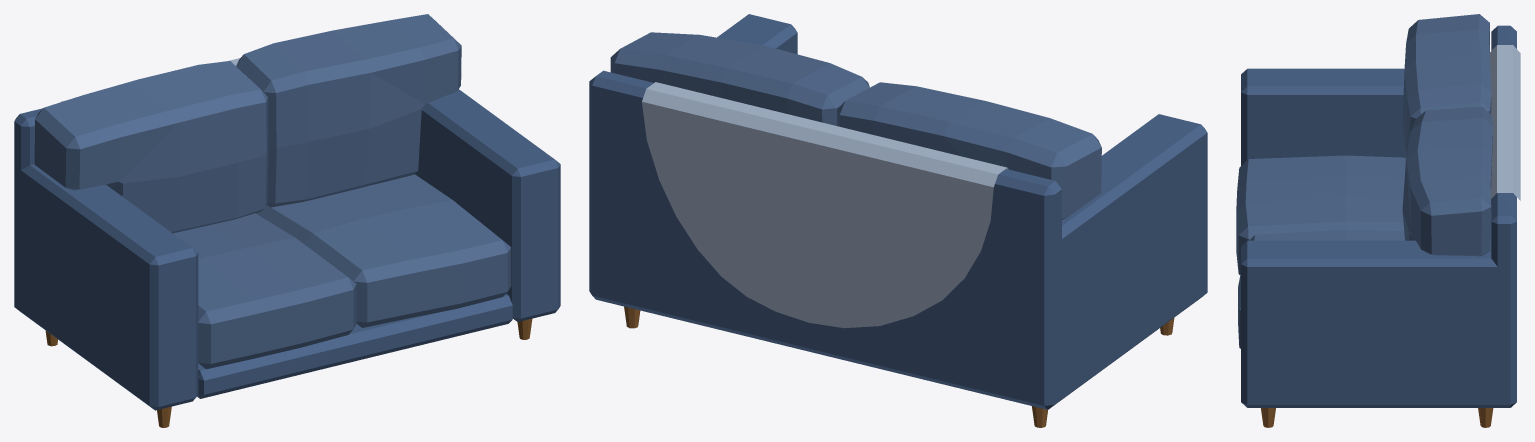
Rendered from couch_mdl.fbx.
3 views of the same model, side by side, from view 1: azimuth 30°, elevation 25°; view 2: azimuth 150°, elevation 25°; view 3: azimuth 270°, elevation 25° (orthographic). The views are drawn at different scales.
Parts seen in each view (by area): view 1: couch_geo; view 2: couch_geo; view 3: couch_geo.
Part boxes in pixels (x1=…): couch_geo: x1=14, y1=14, x2=560, y2=427; couch_geo: x1=589, y1=14, x2=1207, y2=427; couch_geo: x1=1236, y1=14, x2=1520, y2=427.
Bounding box in the file's own units: 2.64 × 1.52 × 1.63.
